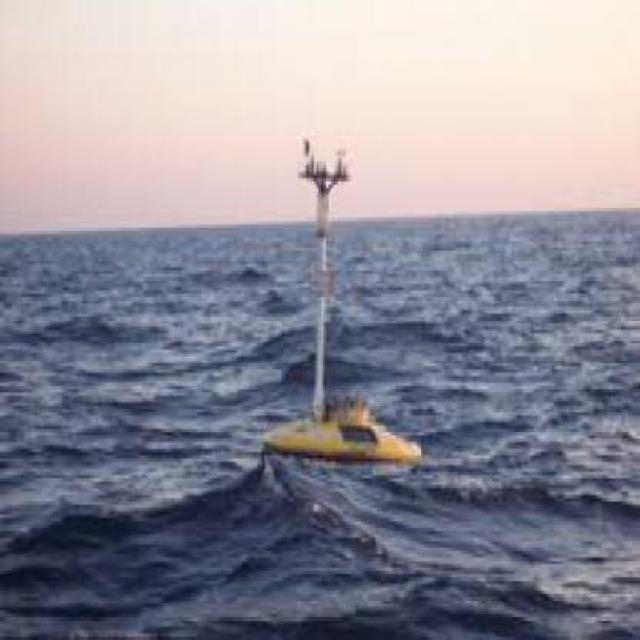buoy: (256, 121, 428, 490)
